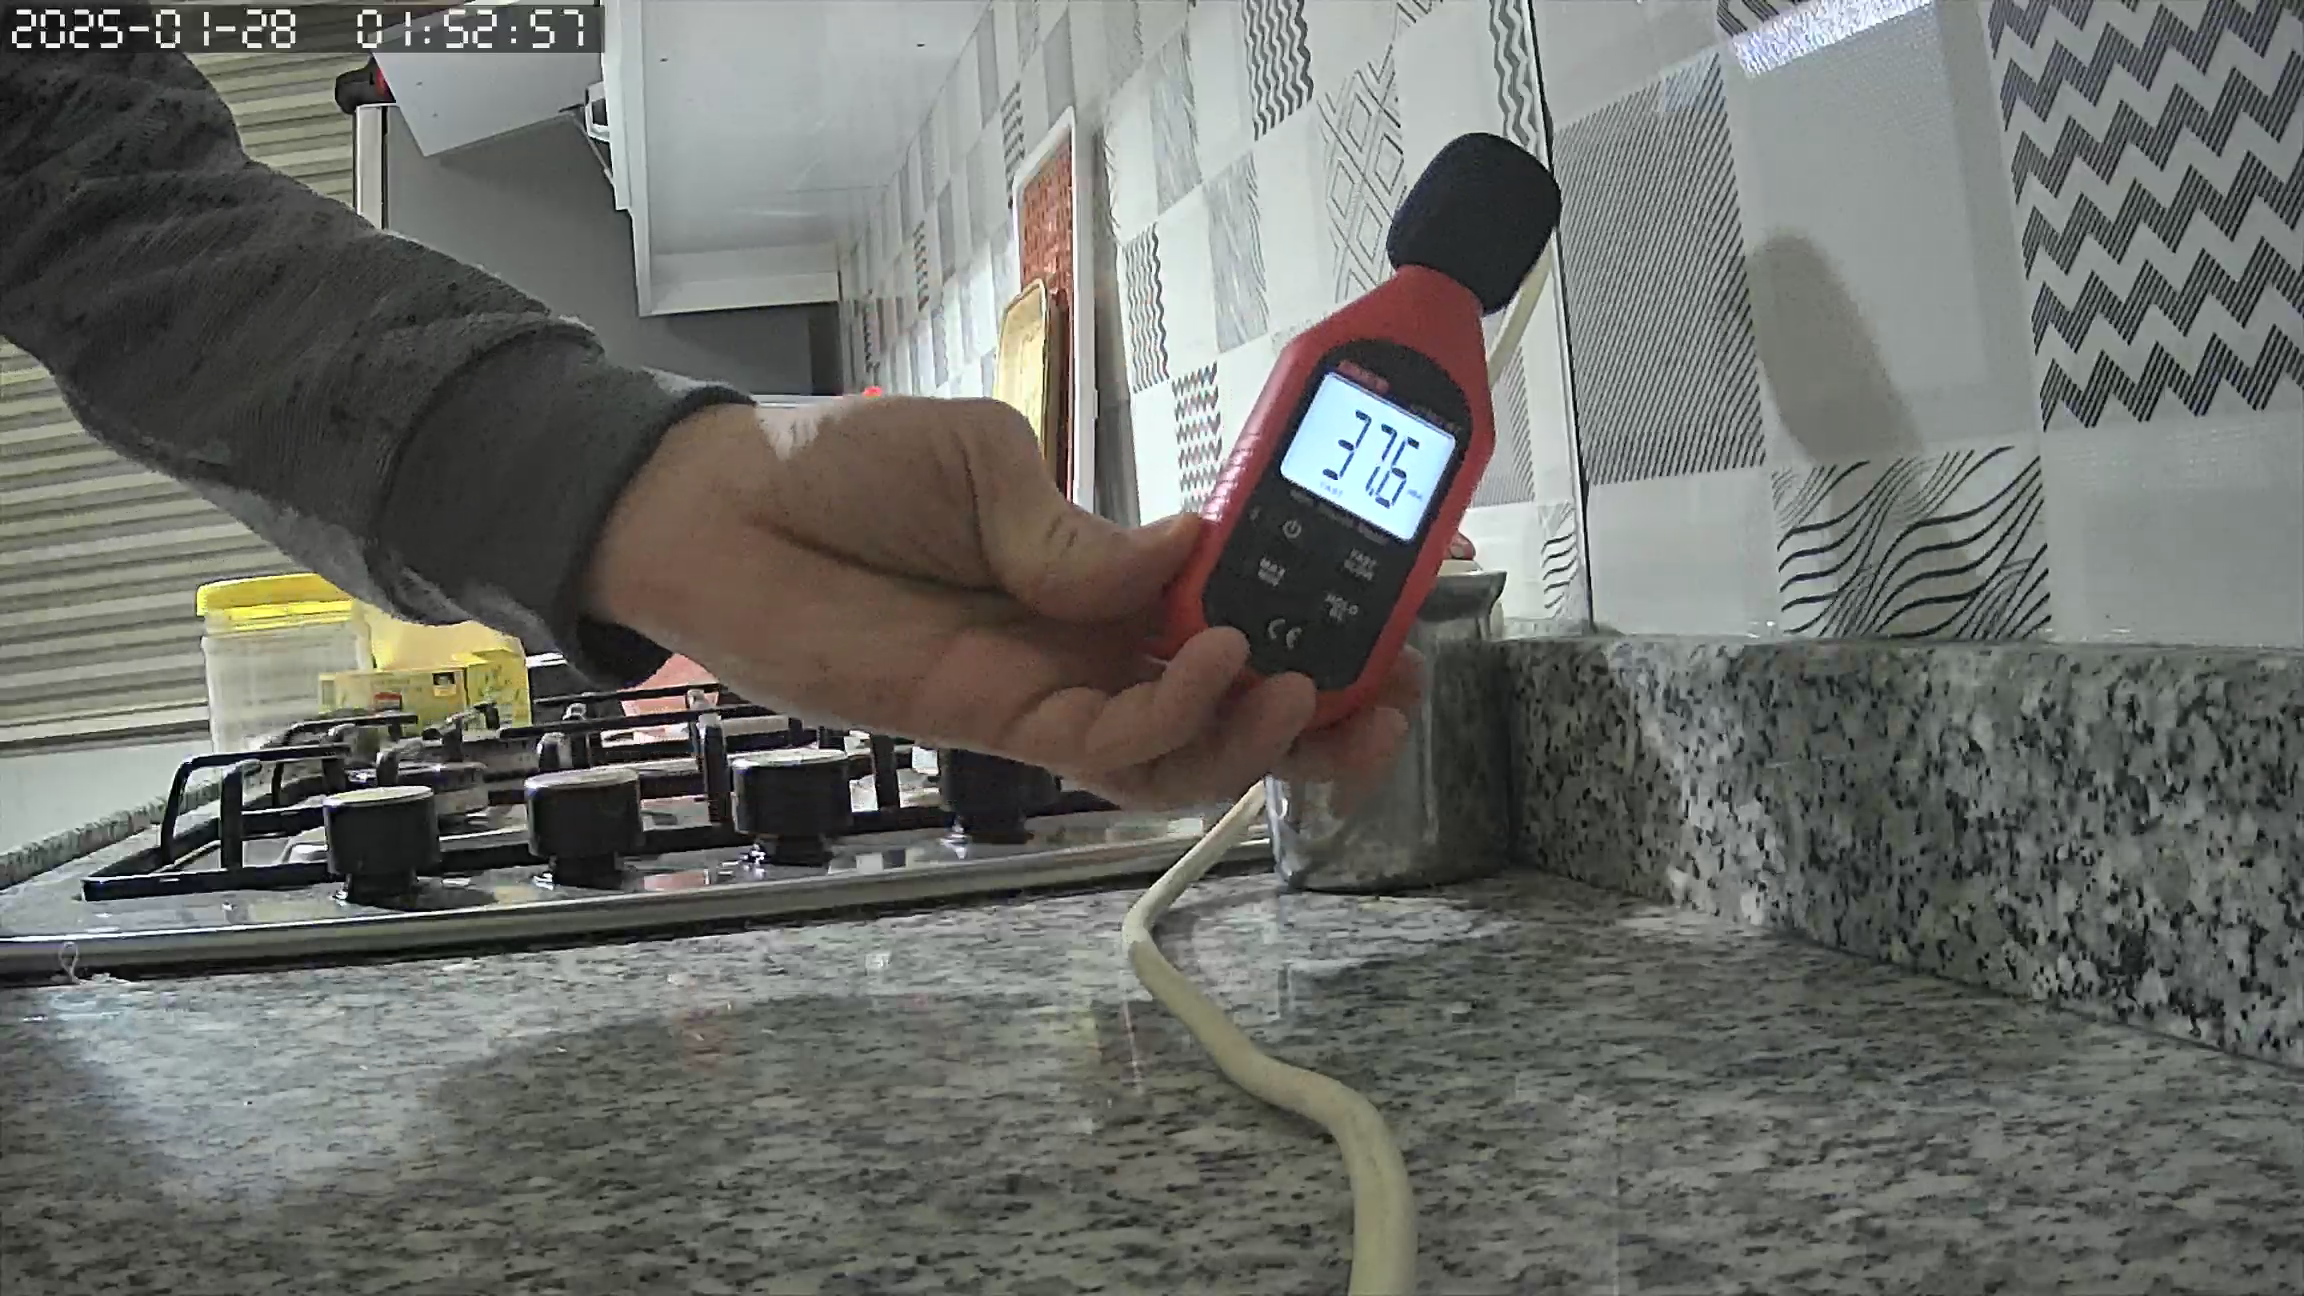screen: (1279, 372, 1457, 543)
